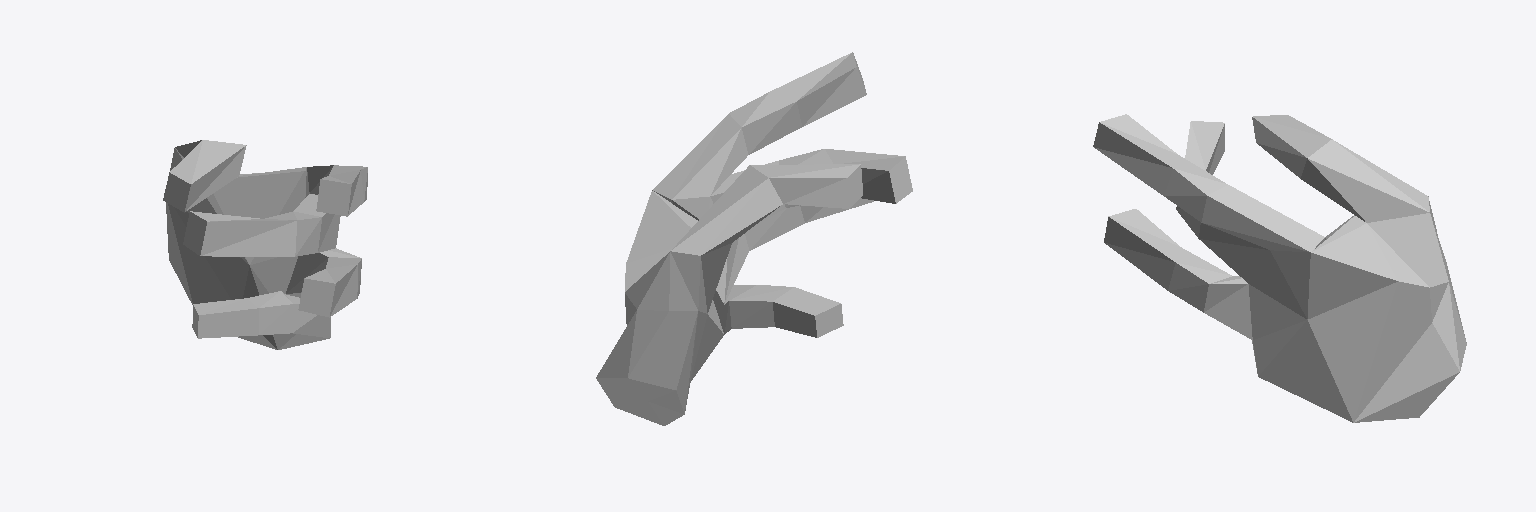
Rendered from RecorderHandLeft4.obj.
The picture shows the model from 3 angles: view 1: azimuth 30°, elevation 25°; view 2: azimuth 150°, elevation 25°; view 3: azimuth 270°, elevation 25°; orthographic projection.
Visible parts, largest first — view 1: Converted object 0; view 2: Converted object 0; view 3: Converted object 0.
Part boxes in pixels (left/top/right/bottom): Converted object 0: left=163, top=140, right=367, bottom=349; Converted object 0: left=596, top=52, right=912, bottom=425; Converted object 0: left=1093, top=114, right=1466, bottom=422.
Size of the model in its own units: 3.58 by 4.65 by 5.77.